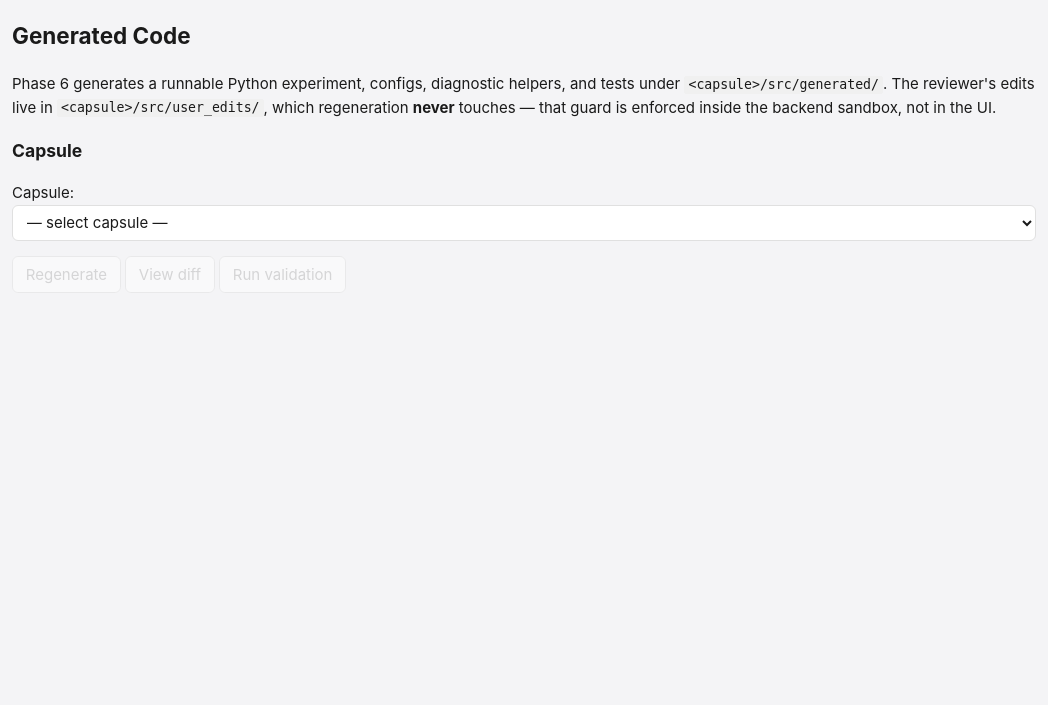
Test: GeneratedCodeView › lists files in the generated tree separately from user_edits/
Select "demo.lxp" in the dropdown labelled "Capsule:" at (524, 223), box top-left (12, 205), bottom-right (1036, 241)
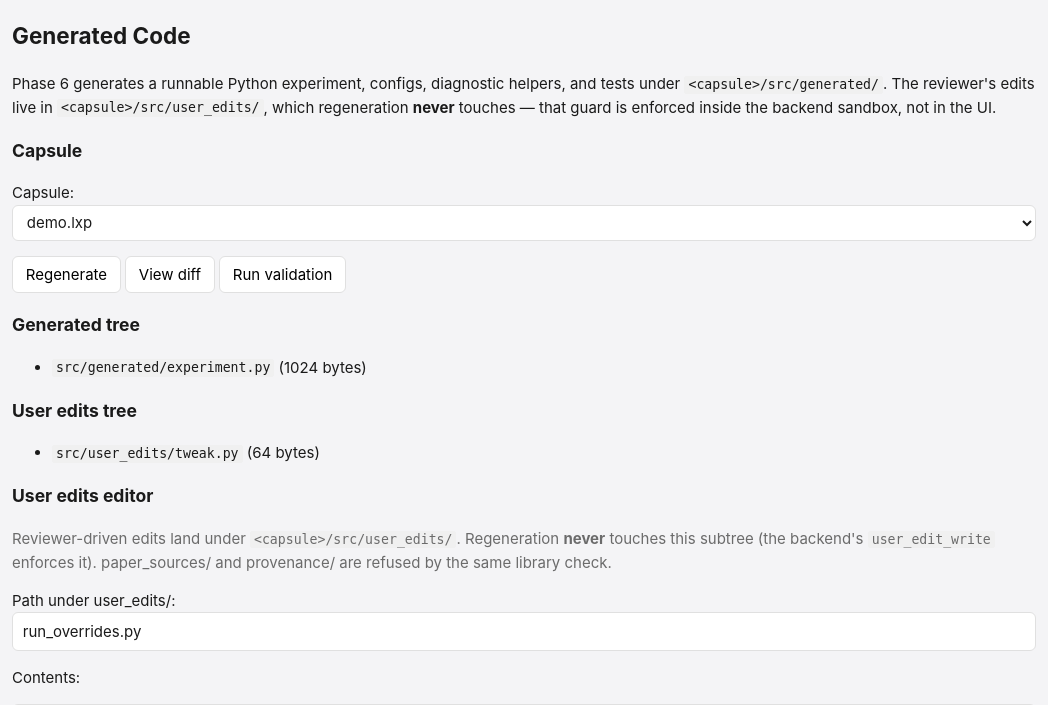
Now the text "src/generated/experiment.py" is shown, box top-left (52, 359), bottom-right (274, 377)
Now the text "src/user_edits/tweak.py" is shown, box top-left (52, 445), bottom-right (242, 463)
